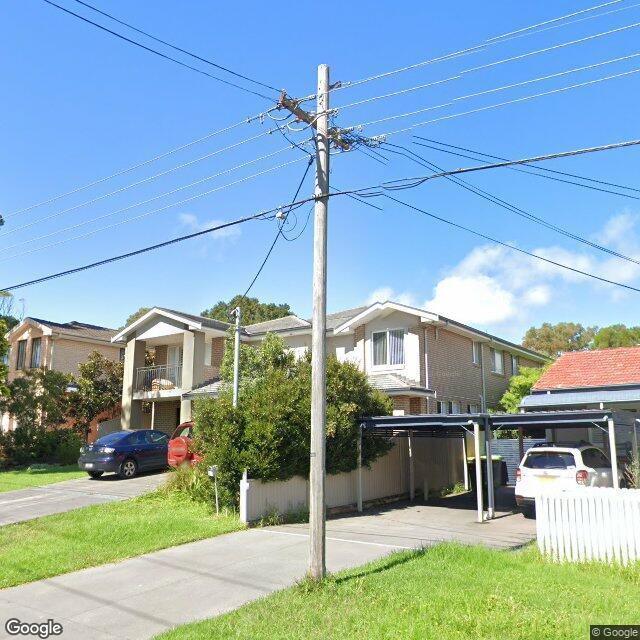crossarm: (279, 96, 351, 150)
steel-pole: (232, 306, 241, 407)
timber-pole: (308, 64, 330, 578)
